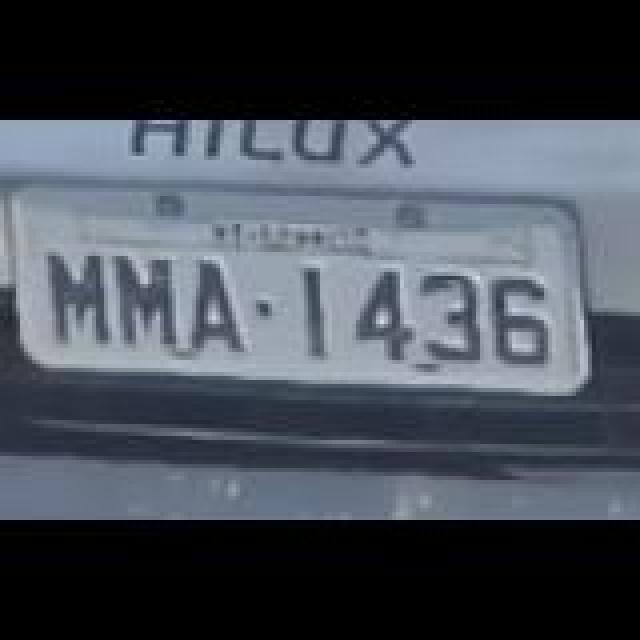1: (294, 266, 338, 358)
3: (416, 270, 488, 362)
4: (350, 270, 418, 362)
6: (488, 278, 560, 370)
A: (182, 260, 250, 356)
M: (44, 248, 116, 344), (112, 252, 184, 348)
